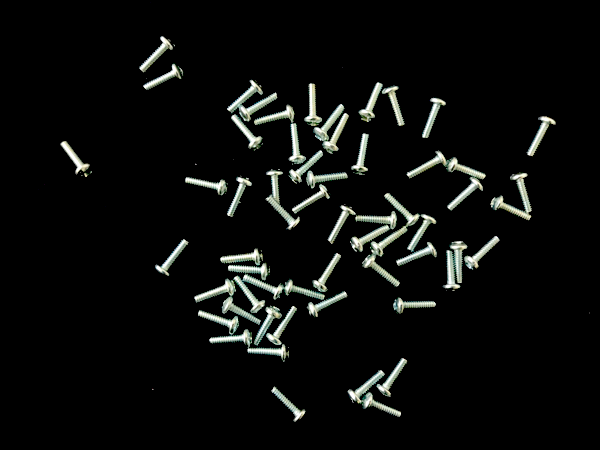shortscrew: (138, 36, 177, 74), (446, 177, 485, 214), (155, 239, 189, 280), (271, 387, 308, 424), (362, 254, 400, 290), (526, 115, 557, 159), (384, 193, 421, 229), (233, 276, 268, 314), (142, 64, 186, 94), (265, 306, 298, 346), (405, 150, 447, 181), (288, 150, 324, 186), (228, 78, 265, 113), (464, 237, 501, 272), (347, 371, 385, 405), (312, 253, 343, 294), (266, 196, 302, 231), (61, 141, 95, 178), (232, 114, 265, 152), (377, 358, 408, 398), (307, 291, 349, 320), (313, 104, 344, 143), (283, 278, 326, 306), (292, 184, 332, 214), (408, 213, 438, 253), (221, 297, 261, 327), (327, 204, 356, 245), (489, 196, 533, 223), (192, 278, 236, 305), (370, 227, 408, 258), (239, 92, 278, 122), (396, 242, 439, 269), (227, 175, 253, 219), (350, 225, 389, 254), (243, 274, 284, 301), (323, 113, 349, 155), (198, 309, 240, 335), (361, 392, 402, 418), (383, 85, 407, 128), (510, 172, 534, 215), (358, 83, 383, 123), (217, 246, 264, 267), (423, 98, 447, 139), (254, 105, 296, 127), (446, 157, 486, 180), (228, 261, 271, 282), (186, 176, 229, 196), (393, 297, 436, 317), (350, 134, 370, 177), (441, 251, 461, 293), (288, 124, 308, 165), (449, 241, 468, 284), (248, 344, 291, 363), (355, 211, 398, 230), (307, 171, 349, 190), (210, 329, 254, 347), (305, 84, 323, 127), (265, 169, 283, 205)
